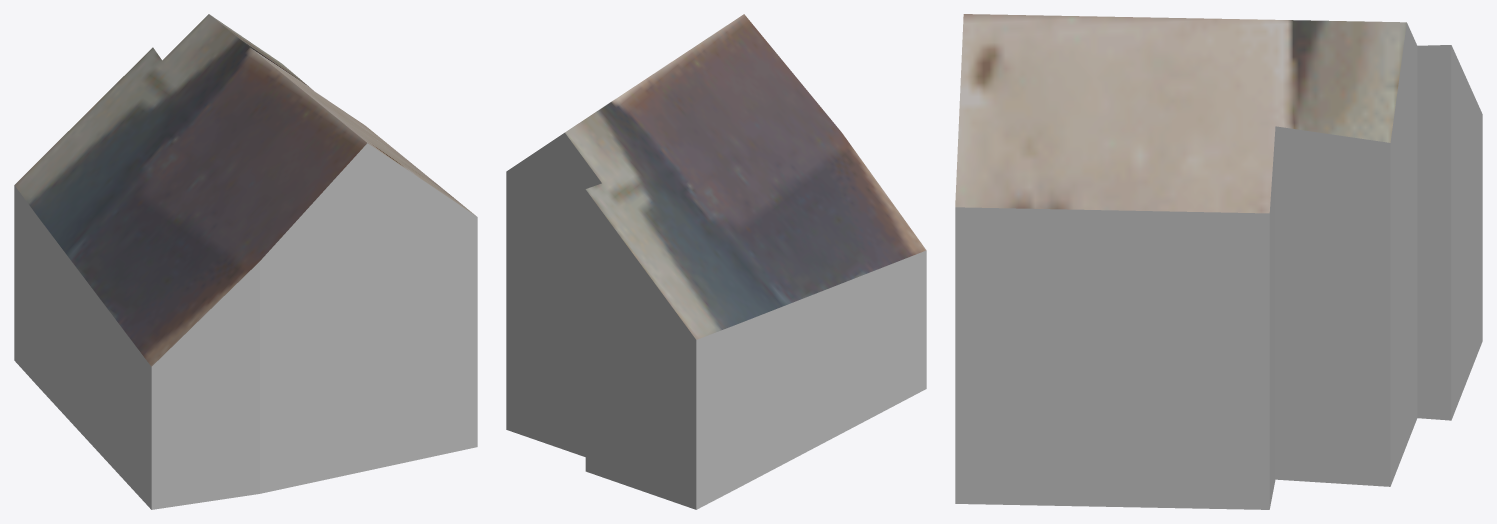
File: DEBW_0010007Tx6i.gltf
3 renders of one model, left to right at view 1: azimuth 30°, elevation 25°; view 2: azimuth 150°, elevation 25°; view 3: azimuth 270°, elevation 25°, orthographic. The views are drawn at different scales.
Visible parts, largest first — view 1: Z_UP; view 2: Z_UP; view 3: Z_UP.
Boxes of the visible parts, x1=… form: Z_UP: x1=14, y1=14, x2=477, y2=509; Z_UP: x1=506, y1=14, x2=926, y2=509; Z_UP: x1=955, y1=14, x2=1482, y2=509.
Bounding box in the file's own units: 17.13 × 16.83 × 19.04.
Materials: 2 (1 with a texture image).
